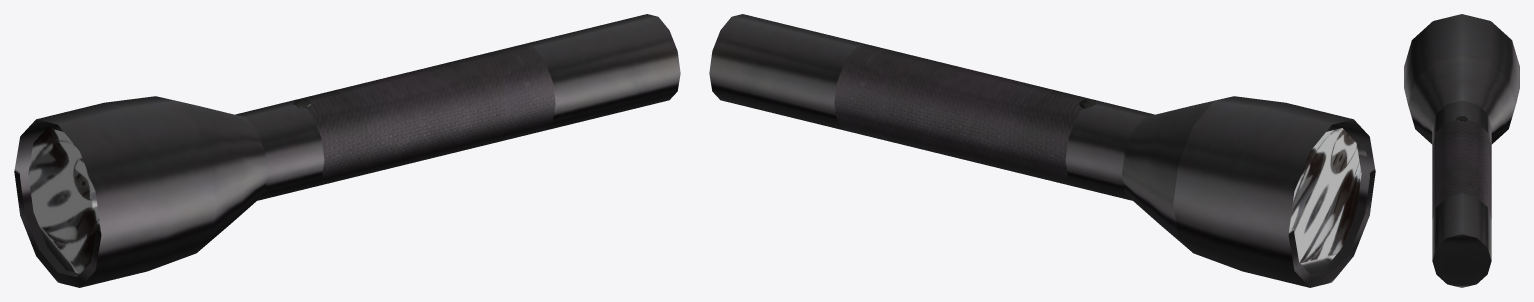
Rendered from Flashlight.fbx.
3 views of the same model, side by side, from view 1: azimuth 30°, elevation 25°; view 2: azimuth 150°, elevation 25°; view 3: azimuth 270°, elevation 25° (orthographic). The views are drawn at different scales.
Parts seen in each view (by area): view 1: Cylinder; view 2: Cylinder; view 3: Cylinder.
Part boxes in pixels (x1=…): Cylinder: x1=14, y1=14, x2=680, y2=287; Cylinder: x1=709, y1=14, x2=1375, y2=287; Cylinder: x1=1404, y1=14, x2=1519, y2=287.
Size of the model in its own units: 244 by 61.39 by 61.39.
